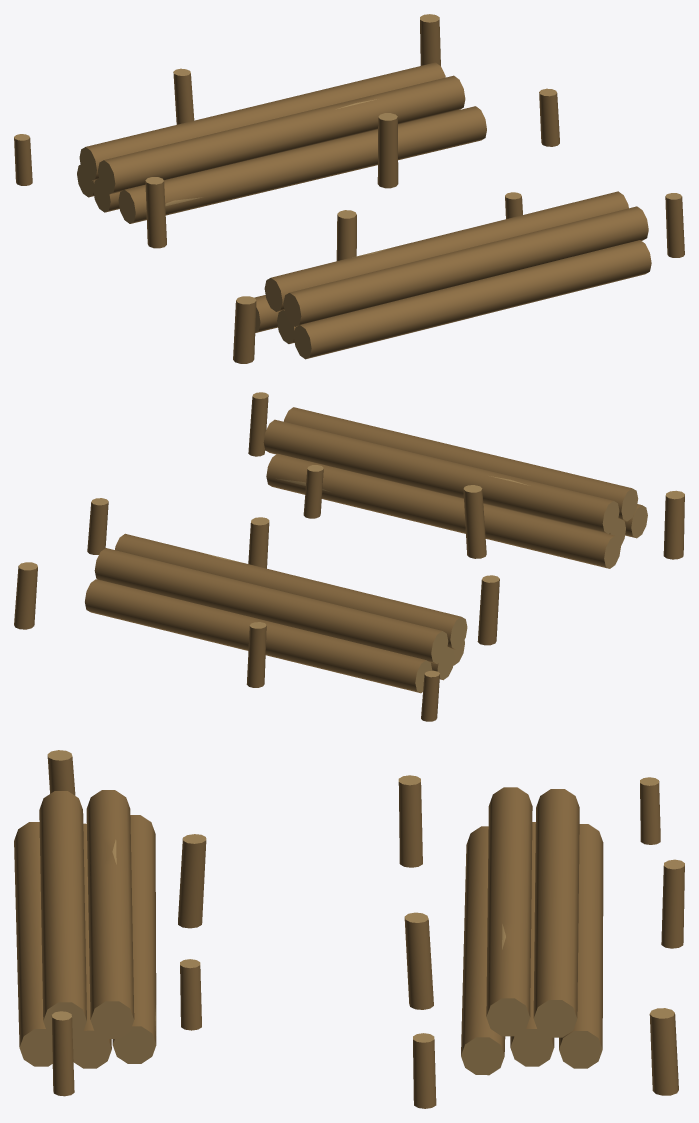
The model's file is Trees cut.glb.
The picture shows the model from 3 angles, top to bottom: view 1: azimuth 30°, elevation 25°; view 2: azimuth 150°, elevation 25°; view 3: azimuth 270°, elevation 25°; orthographic projection. The views are drawn at different scales.
Visible parts, largest first — view 1: Trees cut; view 2: Trees cut; view 3: Trees cut.
Part boxes in pixels (bbox=[...]): Trees cut: bbox=[14, 14, 684, 363]; Trees cut: bbox=[14, 392, 684, 721]; Trees cut: bbox=[14, 750, 684, 1108].
Size of the model in its own units: 2.97 by 0.4231 by 2.97.
